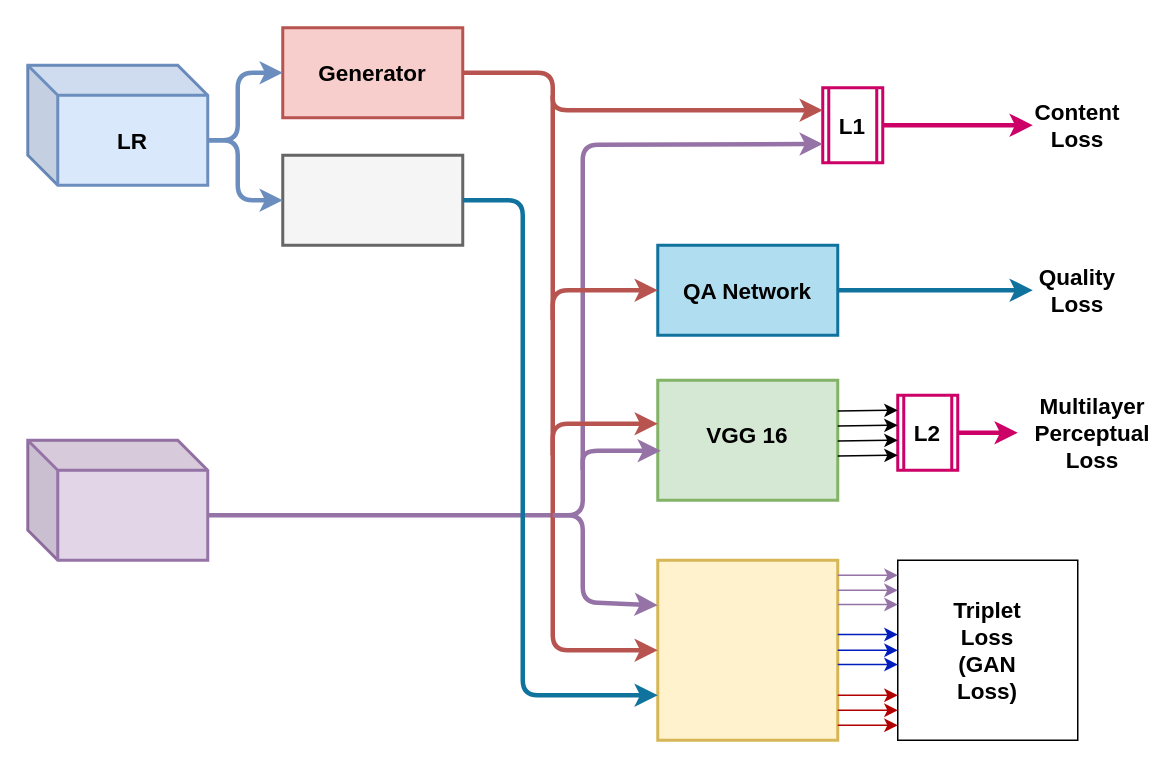
This 1176x767 diagram has some shape labels left out. Each missing label, with the box of its shape:
Bicubic Upsampling: (280, 153, 464, 246)
Discriminator: (656, 558, 838, 741)
HR: (26, 438, 208, 561)
